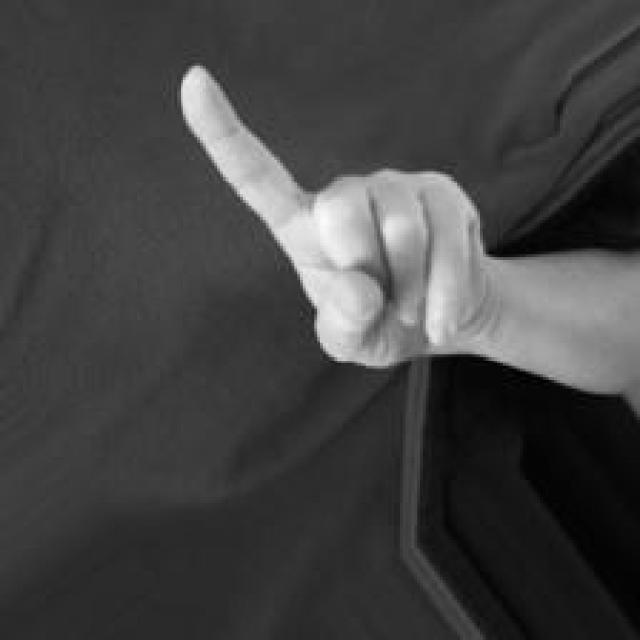I: (164, 58, 502, 372)
